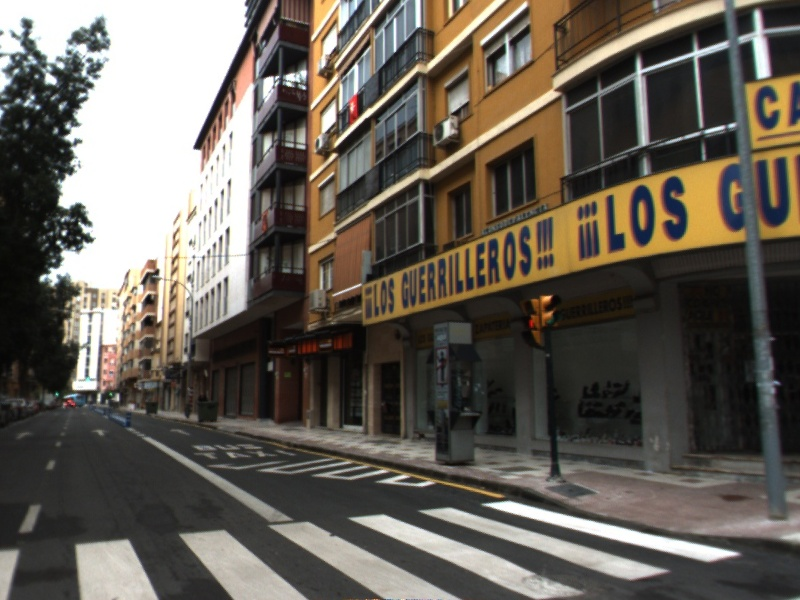STRAIGHT: (13, 428, 37, 443), (167, 426, 195, 438), (88, 426, 112, 438)
